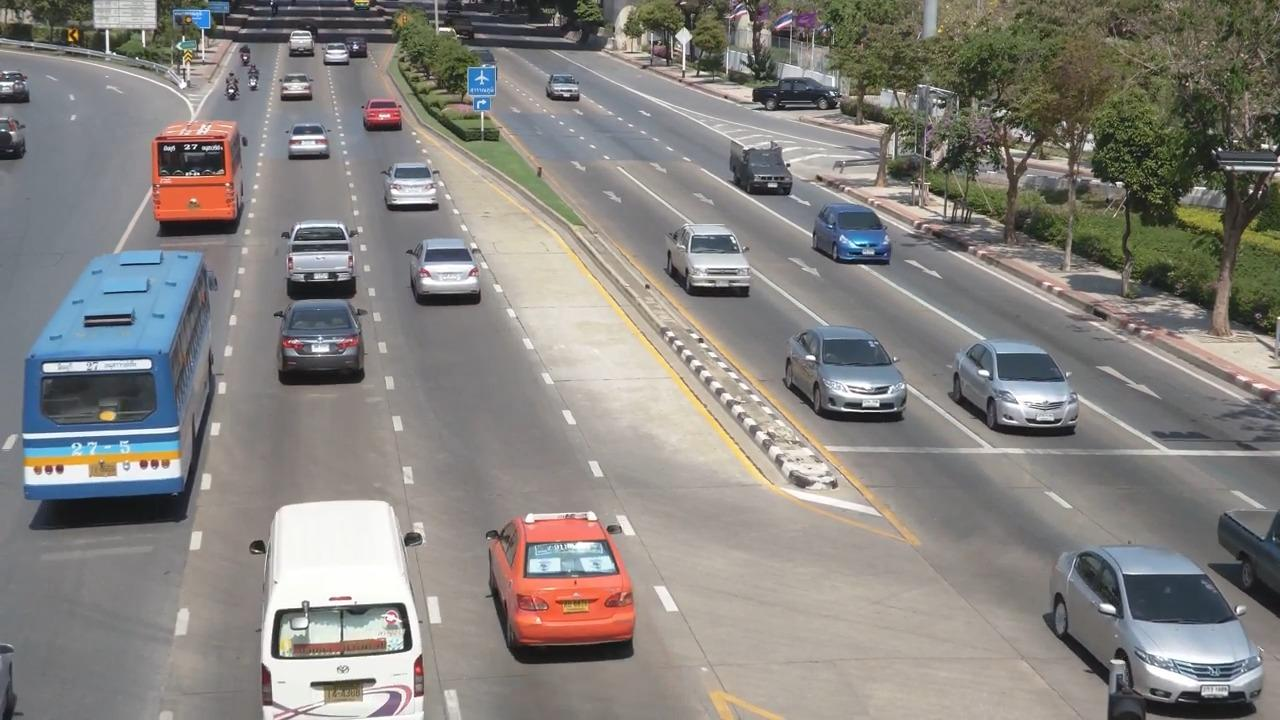CAR: (242, 486, 450, 720), (1015, 538, 1280, 717), (475, 498, 659, 677), (766, 305, 914, 426), (947, 329, 1087, 440), (265, 293, 380, 392), (656, 214, 760, 306), (265, 219, 368, 308), (804, 200, 902, 278), (407, 231, 497, 311), (720, 131, 802, 210), (753, 62, 844, 127), (376, 156, 449, 217), (278, 117, 337, 174), (532, 66, 596, 117), (273, 31, 329, 74), (356, 93, 407, 139), (274, 74, 326, 119), (333, 30, 372, 65), (317, 43, 354, 73)
HGV_BUS: (15, 256, 223, 544), (127, 115, 257, 256)
MOTOR: (227, 35, 260, 74), (242, 62, 272, 104), (219, 69, 243, 102)
